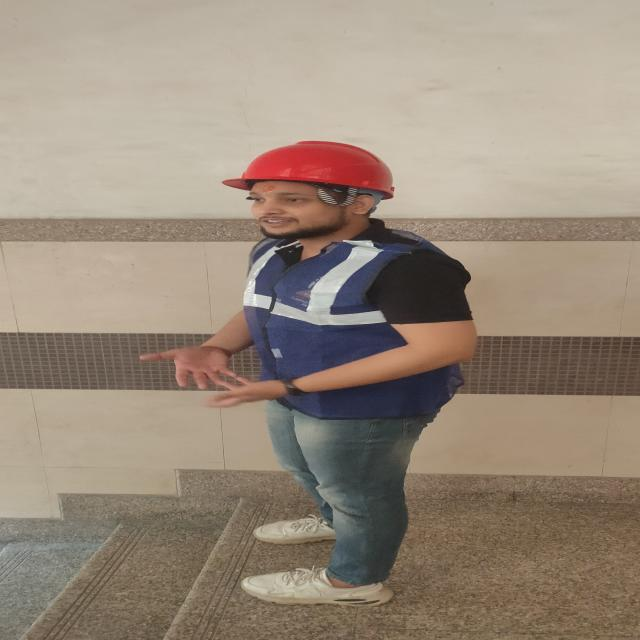safe: (150, 142, 475, 604)
